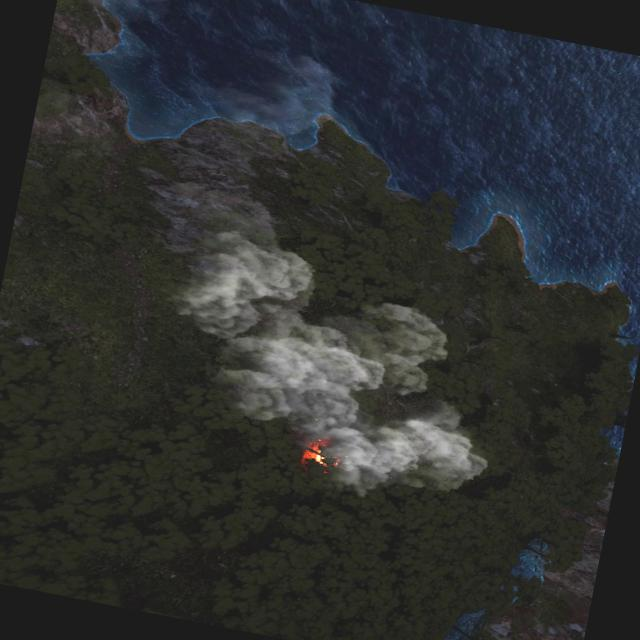fire: (300, 441, 342, 471)
smoke: (134, 190, 528, 542)
